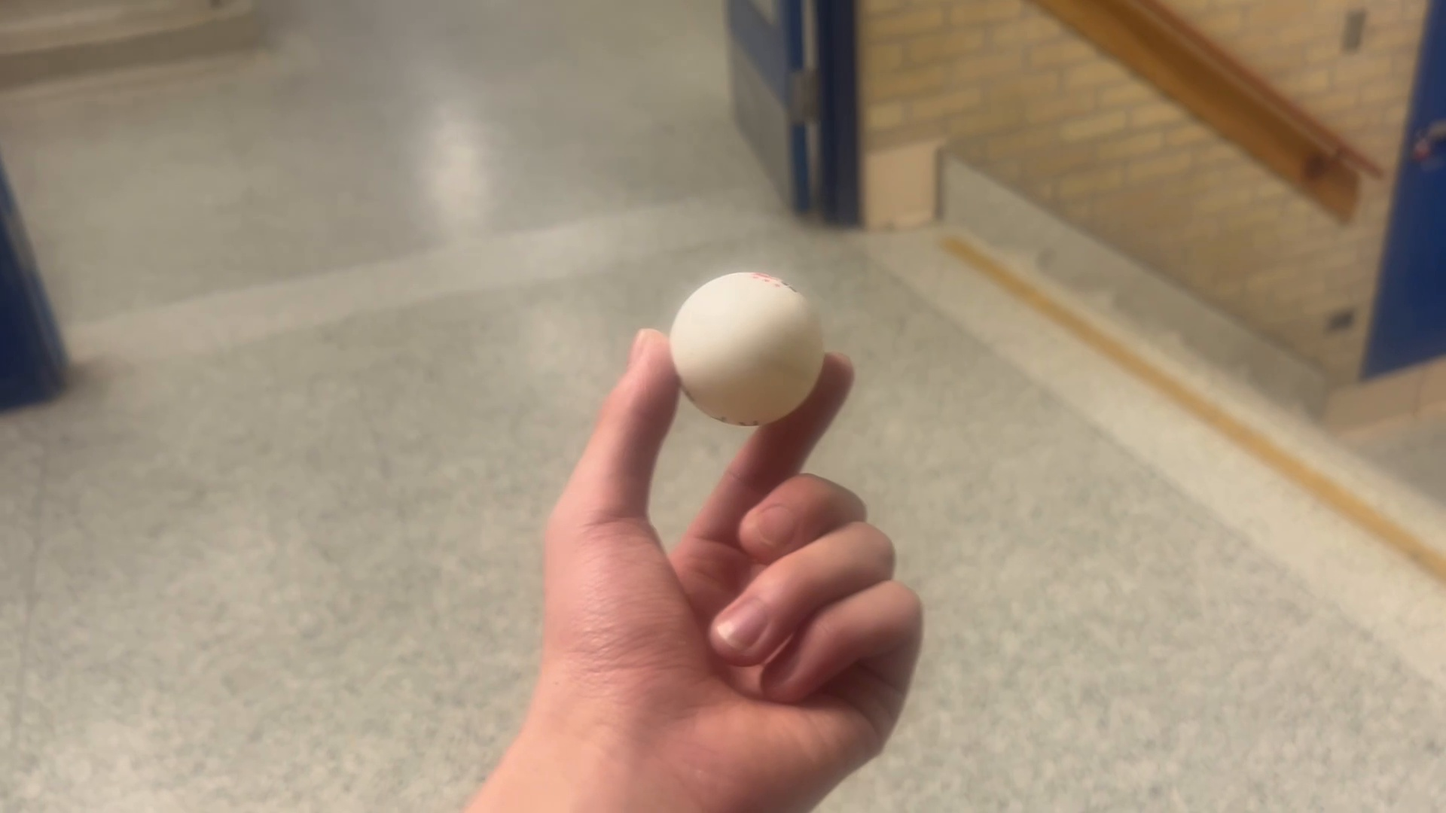Ball: (669, 258, 829, 427)
